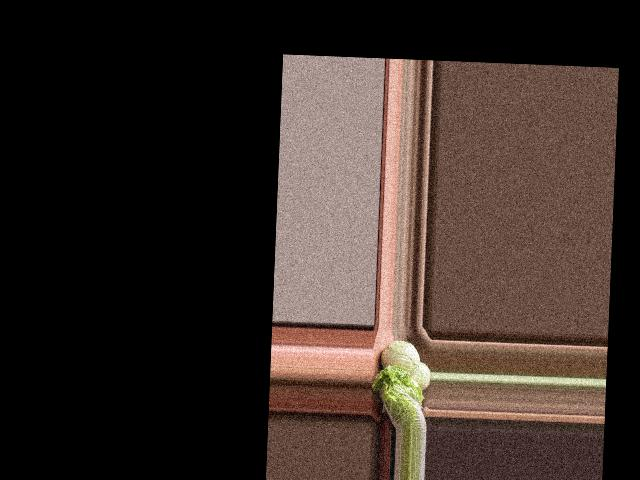lettuce: (369, 364, 427, 430)
